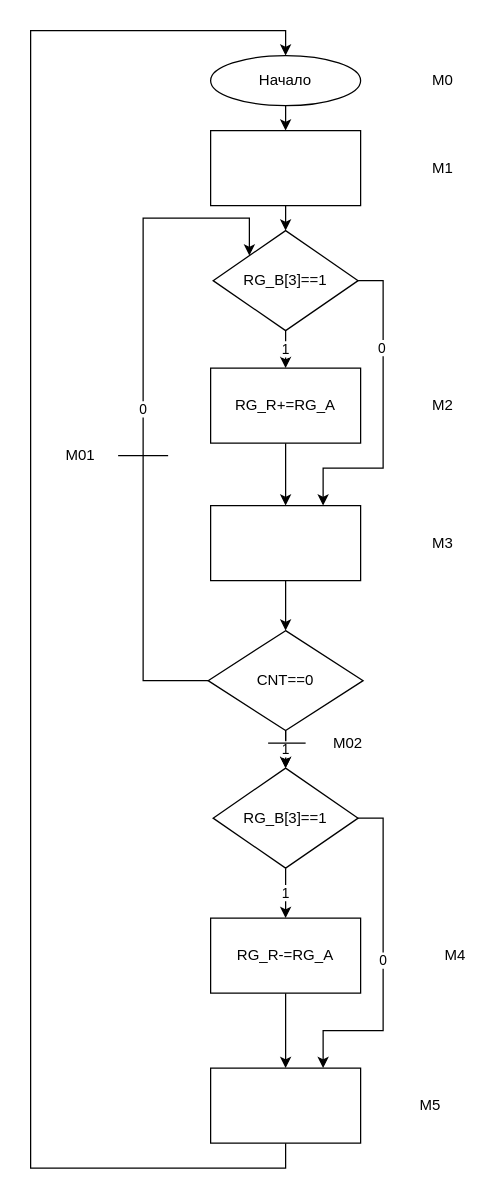
Some shapes in this 503 by 1200 pixel diagram are drawn without their labels. Each missing label, with the box of its shape:
RG_A=inpA RG_B=inpB CNT=inpC: (209, 129, 361, 206)
RG_R->RG_O RG_R[0]=RG_R[1]: (209, 1067, 361, 1143)
RG_R->RG_O RG_R[0]=RG_R[1] CNT--: (209, 504, 361, 581)
